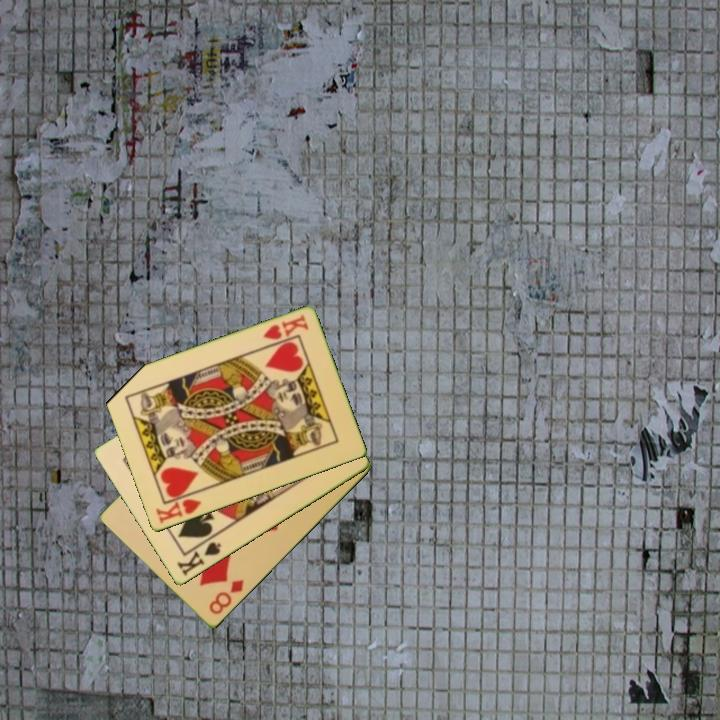8d: (205, 576, 247, 618)
Kh: (152, 488, 205, 526), (259, 311, 311, 343)
Ks: (173, 533, 224, 580)
